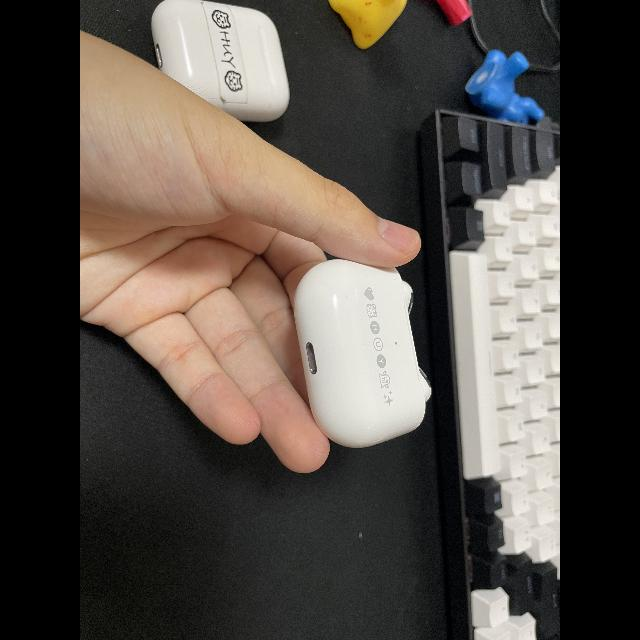airpod2: (146, 0, 298, 128)
airpod3: (284, 250, 430, 452)
